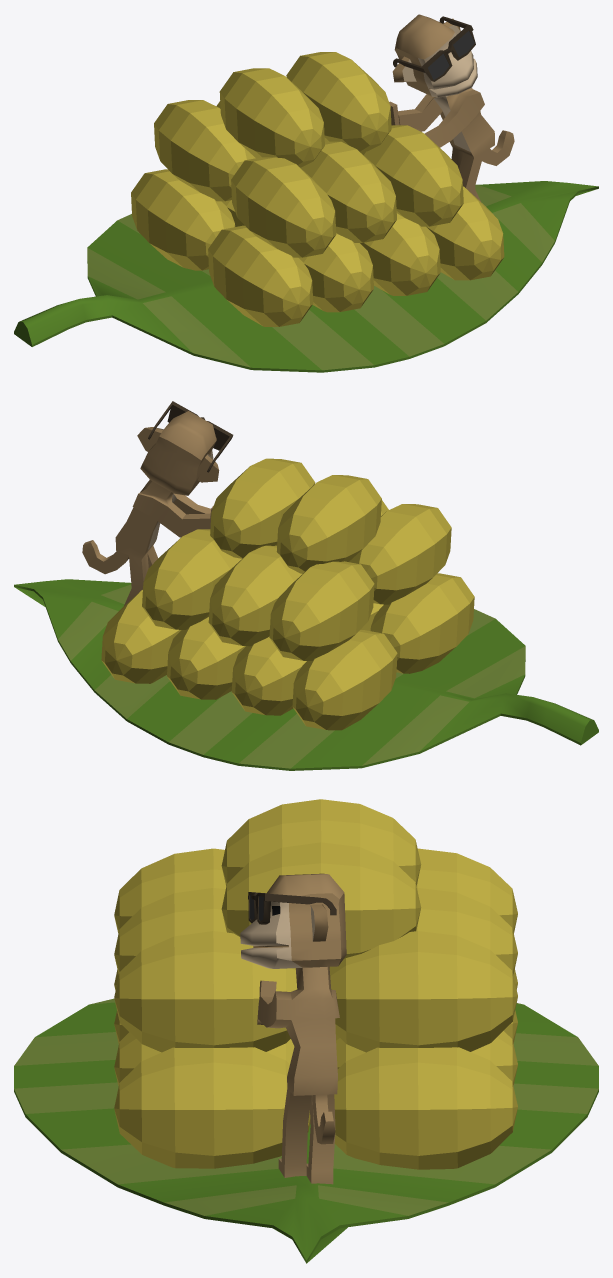
Rendered from yashimamiire.fbx.
The picture shows the model from 3 angles, top to bottom: view 1: azimuth 30°, elevation 25°; view 2: azimuth 150°, elevation 25°; view 3: azimuth 270°, elevation 25°; orthographic projection. The views are drawn at different scales.
Parts seen in each view (by area): view 1: monkey:group2; view 2: monkey:group2; view 3: monkey:group2.
Part boxes in pixels (bbox=[...]): monkey:group2: bbox=[14, 14, 598, 372]; monkey:group2: bbox=[14, 401, 598, 770]; monkey:group2: bbox=[14, 799, 598, 1263].
Size of the model in its own units: 22.31 by 8.42 by 14.8.
